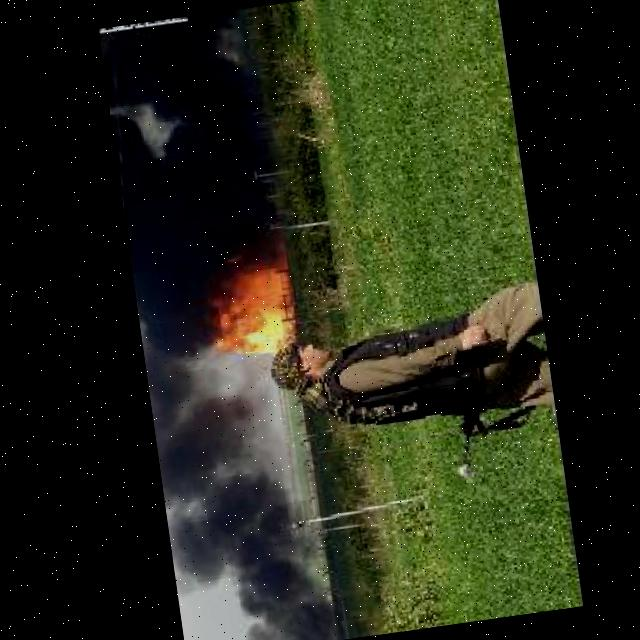fire: (198, 251, 296, 366)
